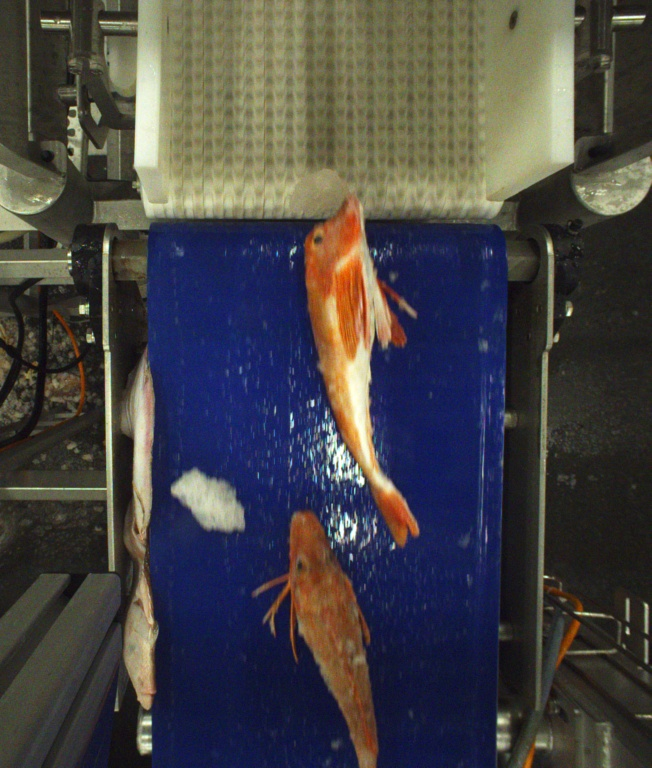GUU: (304, 193, 418, 550)
